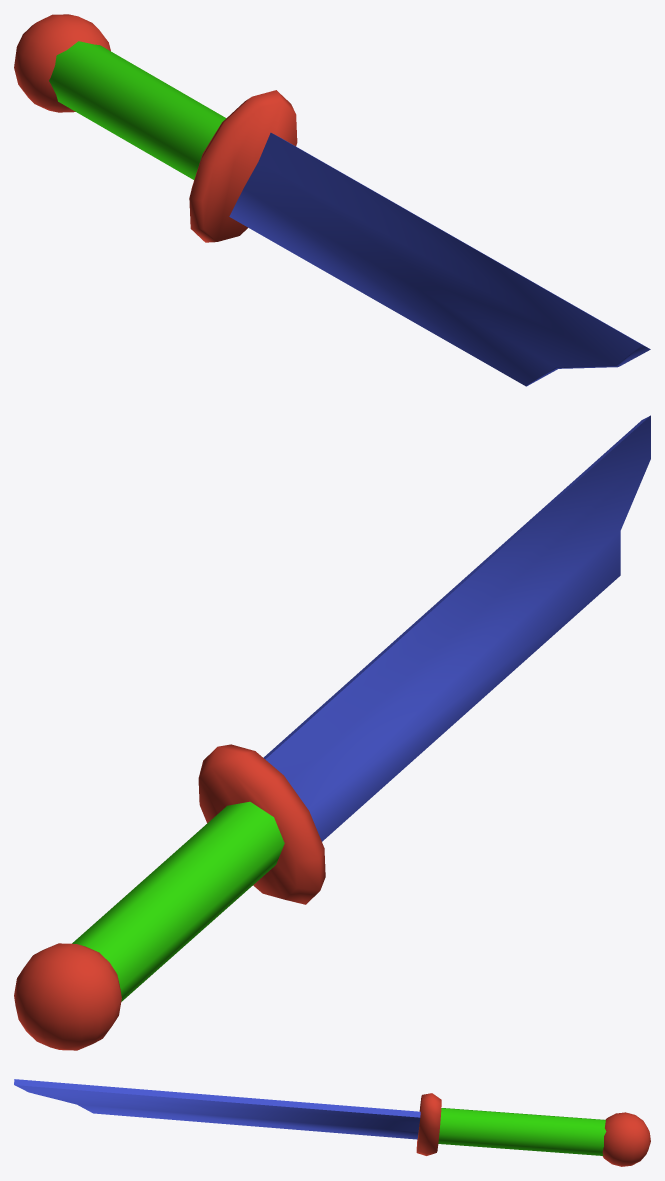
The model's file is Sword_LowPoly.fbx.
3 renders of one model, top to bottom at view 1: azimuth 30°, elevation 25°; view 2: azimuth 150°, elevation 25°; view 3: azimuth 270°, elevation 25°, orthographic. The views are drawn at different scales.
Visible parts, largest first — view 1: SwordBroken; view 2: SwordBroken; view 3: SwordBroken.
Boxes of the visible parts, box(x1,y1,x2,y2) form: SwordBroken: box(14, 14, 650, 386); SwordBroken: box(14, 415, 650, 1050); SwordBroken: box(14, 1079, 650, 1166).
Bounding box in the file's own units: 7.78 × 11.88 × 75.34.
